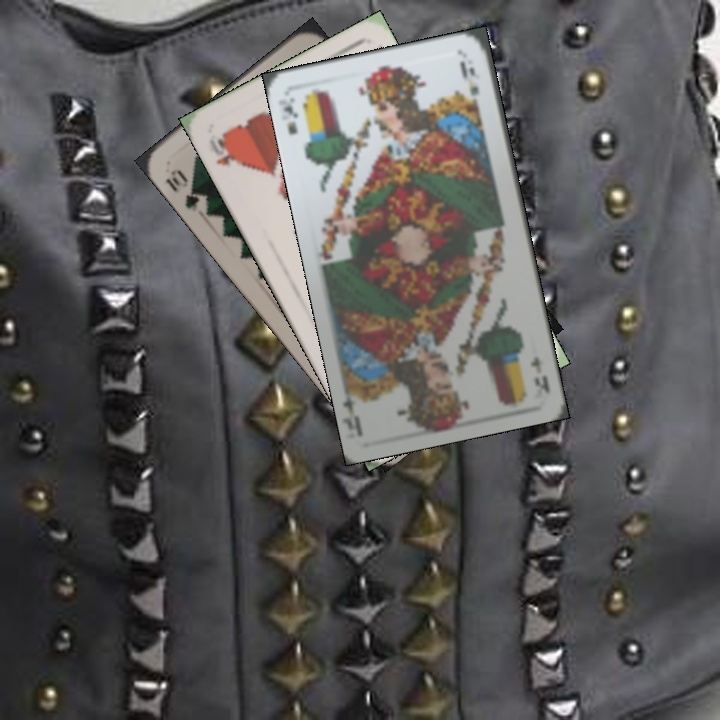EK: (526, 351, 552, 396), (275, 93, 301, 137)
G10: (161, 165, 211, 215)
HO: (205, 130, 242, 169)
